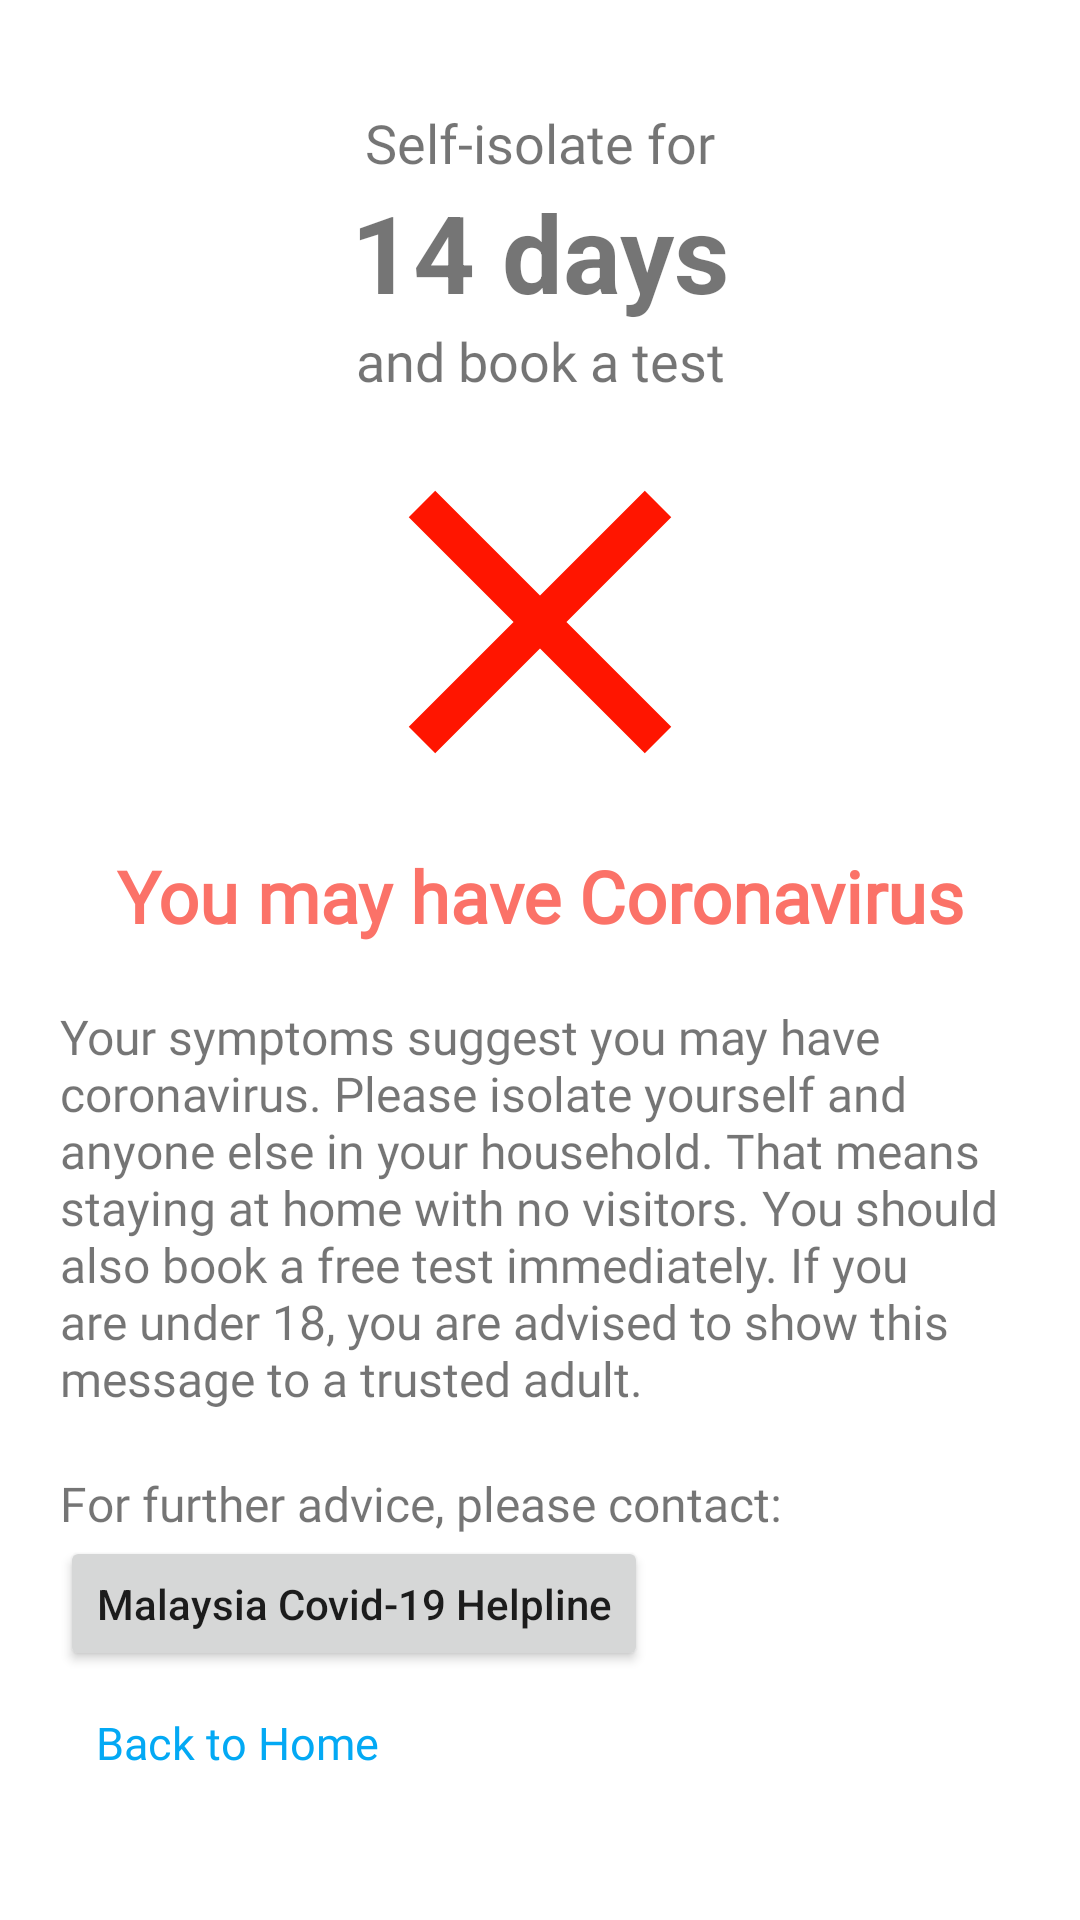

Screen size 1080px x 1920px. Icon name, then its center in pixels as (x=x, y=y):
clear: (x=540, y=622)
